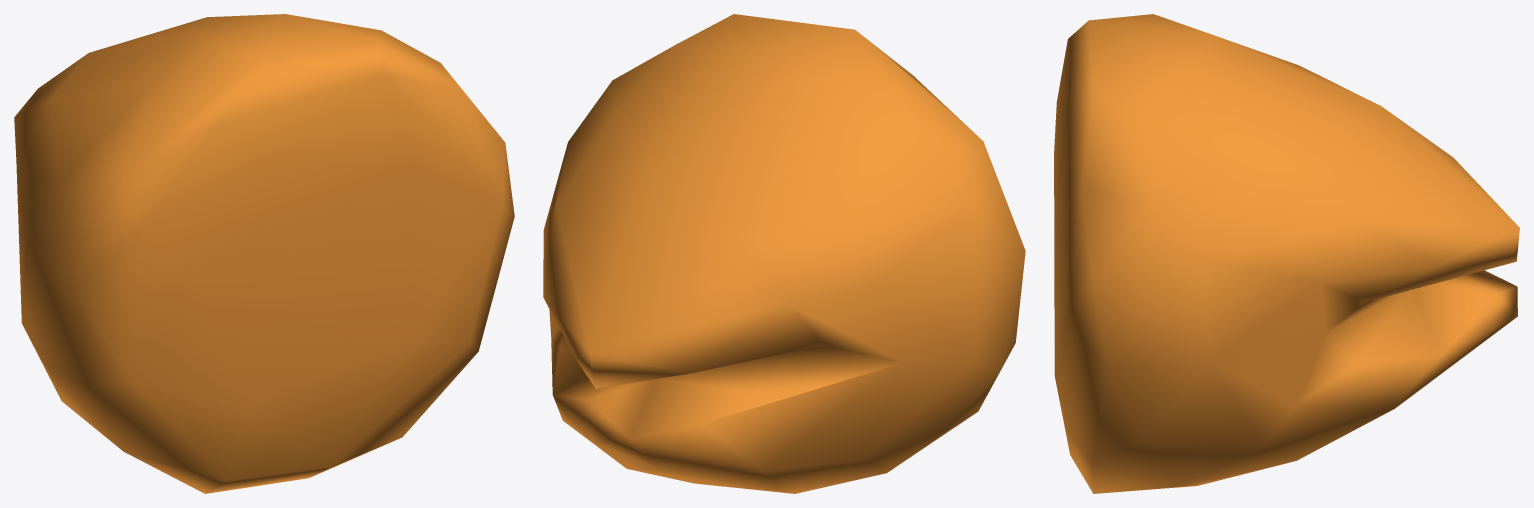
Rendered from dexel.glb.
3 views of the same model, side by side, from view 1: azimuth 30°, elevation 25°; view 2: azimuth 150°, elevation 25°; view 3: azimuth 270°, elevation 25° (orthographic). The views are drawn at different scales.
Size of the model in its own units: 1.06 by 1 by 0.9821.
Materials: 1 (1 with a texture image).
